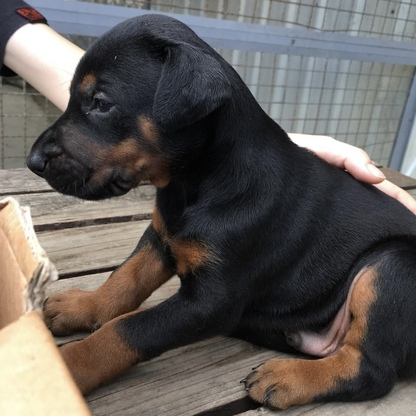doberman: (36, 14, 416, 398)
